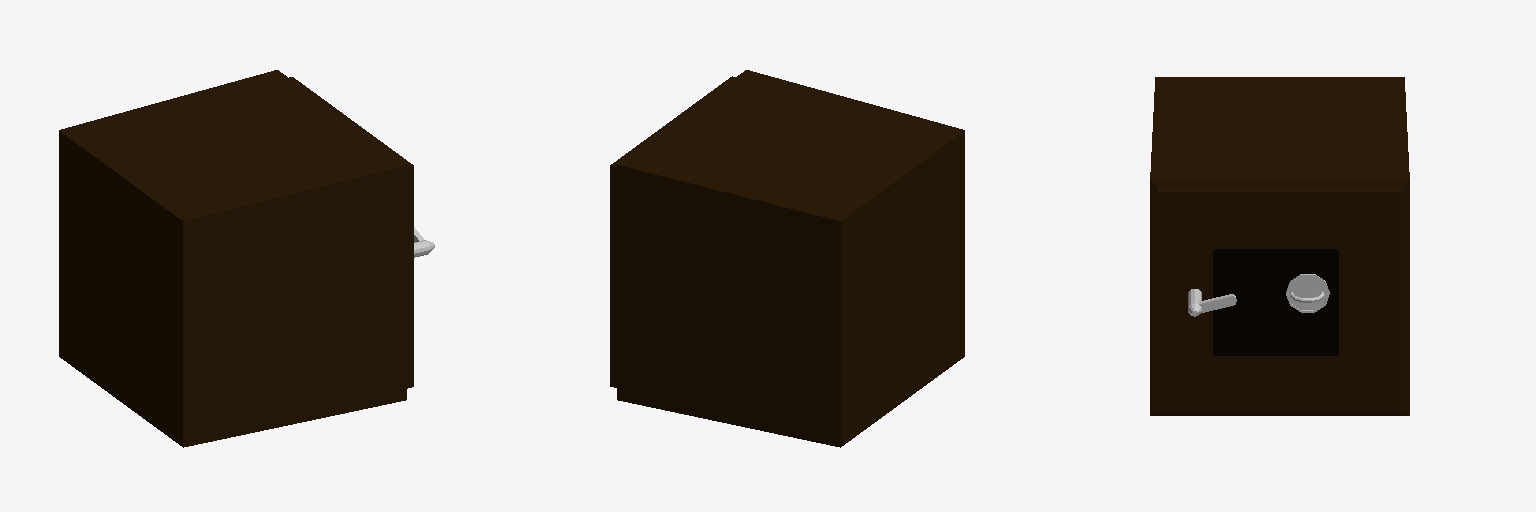
File: kluis.obj
3 views of the same model, side by side, from view 1: azimuth 30°, elevation 25°; view 2: azimuth 150°, elevation 25°; view 3: azimuth 270°, elevation 25° (orthographic).
Parts seen in each view (by area): view 1: Cube_Cube.001, Plane; view 2: Cube_Cube.001, Plane; view 3: Plane, Cube_Cube.001, Circle, Cylinder.
Part boxes in pixels (x1,y1,x2,y2): Cube_Cube.001: (59, 70, 406, 447); Plane: (289, 77, 413, 388); Cube_Cube.001: (617, 70, 964, 447); Plane: (610, 76, 735, 387); Plane: (1158, 188, 1401, 412); Cube_Cube.001: (1150, 77, 1409, 415); Circle: (1286, 274, 1329, 312); Cylinder: (1188, 289, 1236, 316).
Size of the model in its own units: 2.11 by 1.76 by 1.76.